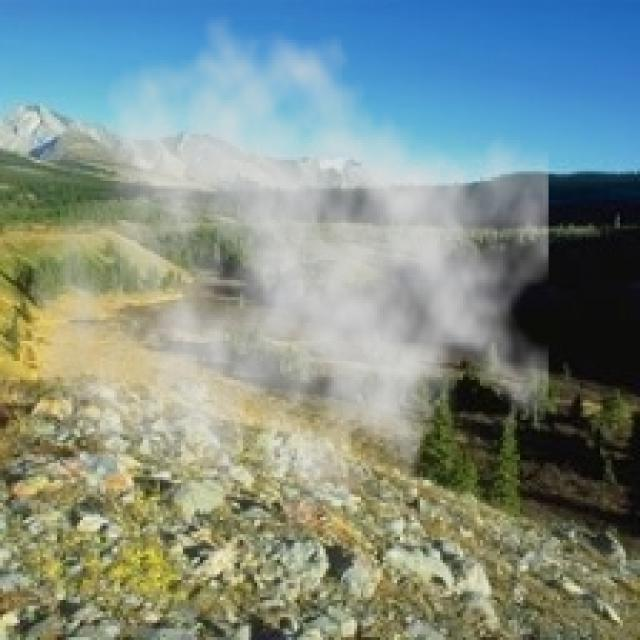Smoke: (26, 11, 548, 566)
